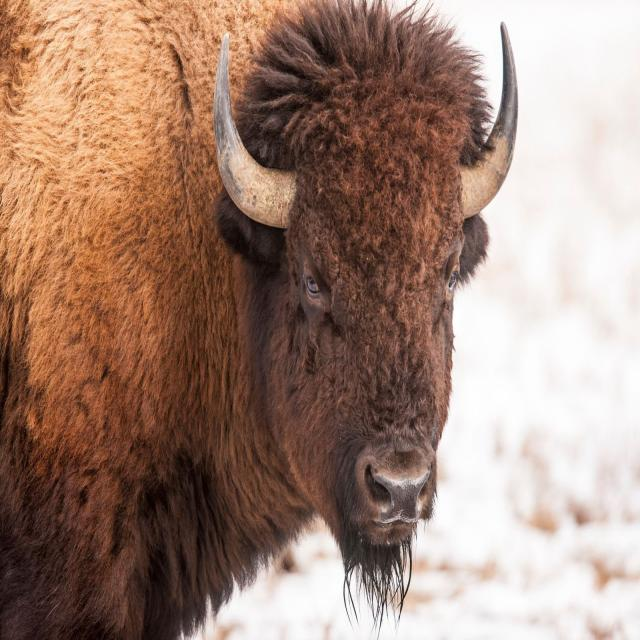Bison: (0, 0, 522, 640)
